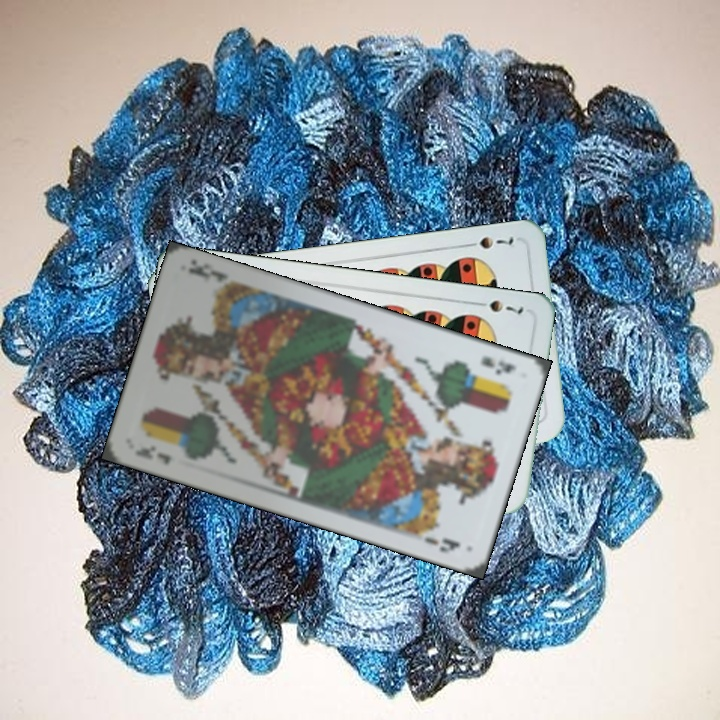EK: (131, 441, 175, 467), (476, 352, 519, 377)
S7: (470, 295, 526, 317), (460, 232, 516, 252)
